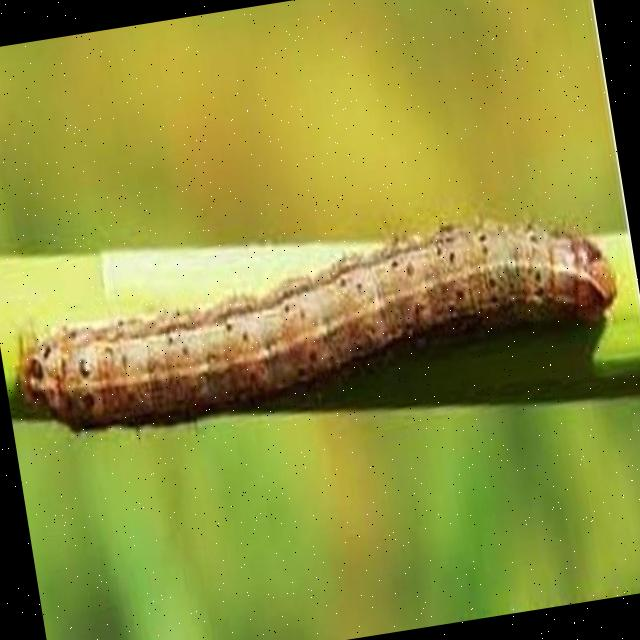worm: (1, 188, 640, 499)
